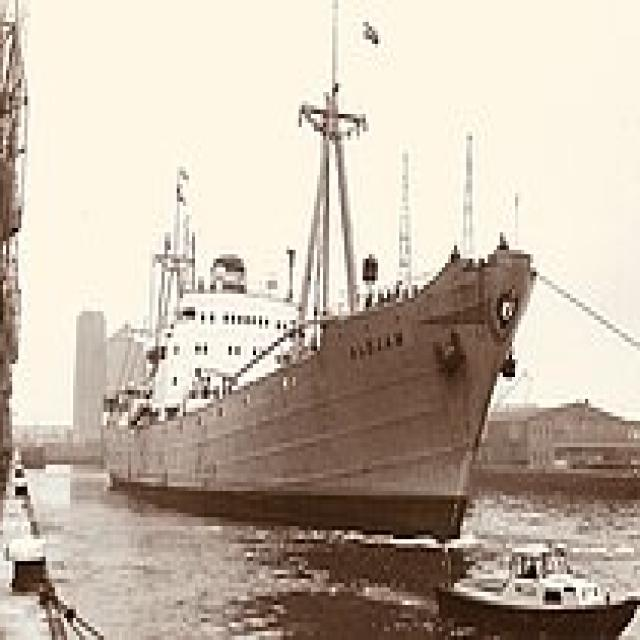Cargo: (103, 4, 542, 544)
